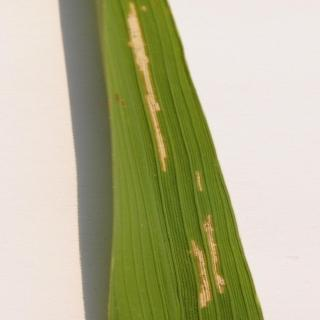Hawar-Daun: (170, 172, 241, 320), (113, 0, 170, 138)
